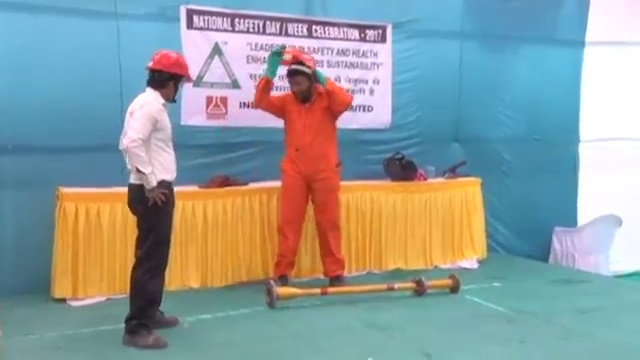helmet: (145, 48, 194, 83), (282, 47, 317, 76)
helmet_on: (141, 46, 194, 108), (280, 48, 319, 106)
person: (255, 47, 356, 292), (115, 47, 193, 351)
